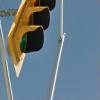Traffic light: (10, 2, 53, 68)
